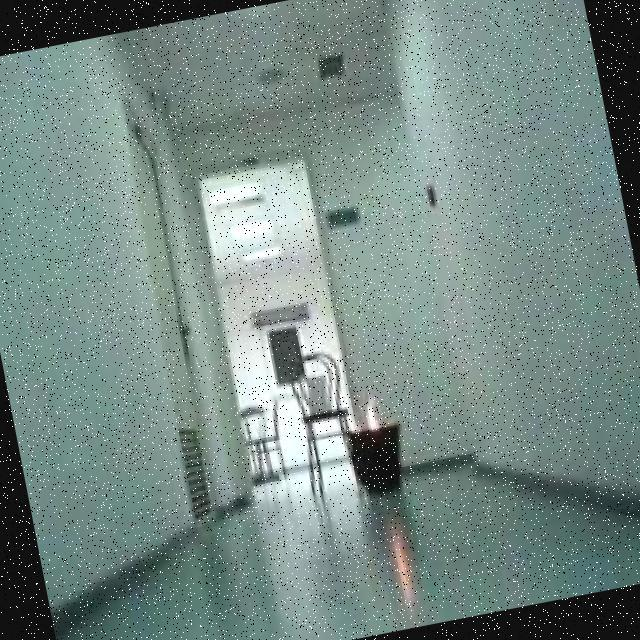Fire: (360, 393, 386, 432)
